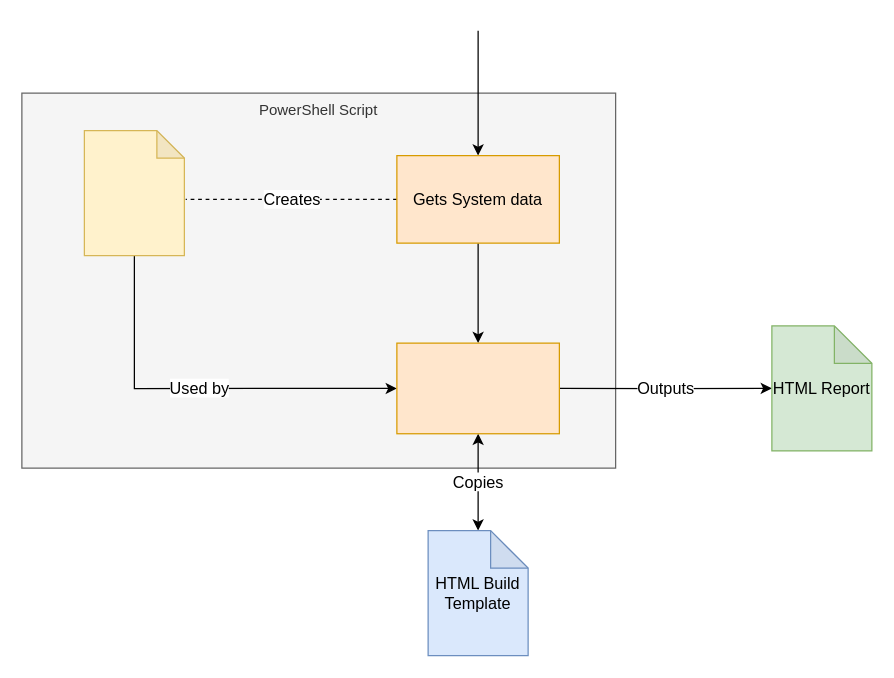
The diagram is 894 pixels wide and 678 high, and some of its shapes have lost their labels. Each missing label, with the centre of its shape:
"Creates Report" belongs at point 477,388.
"Data.js" belongs at point 133,192.
